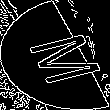M_E: (10, 25, 100, 85)
